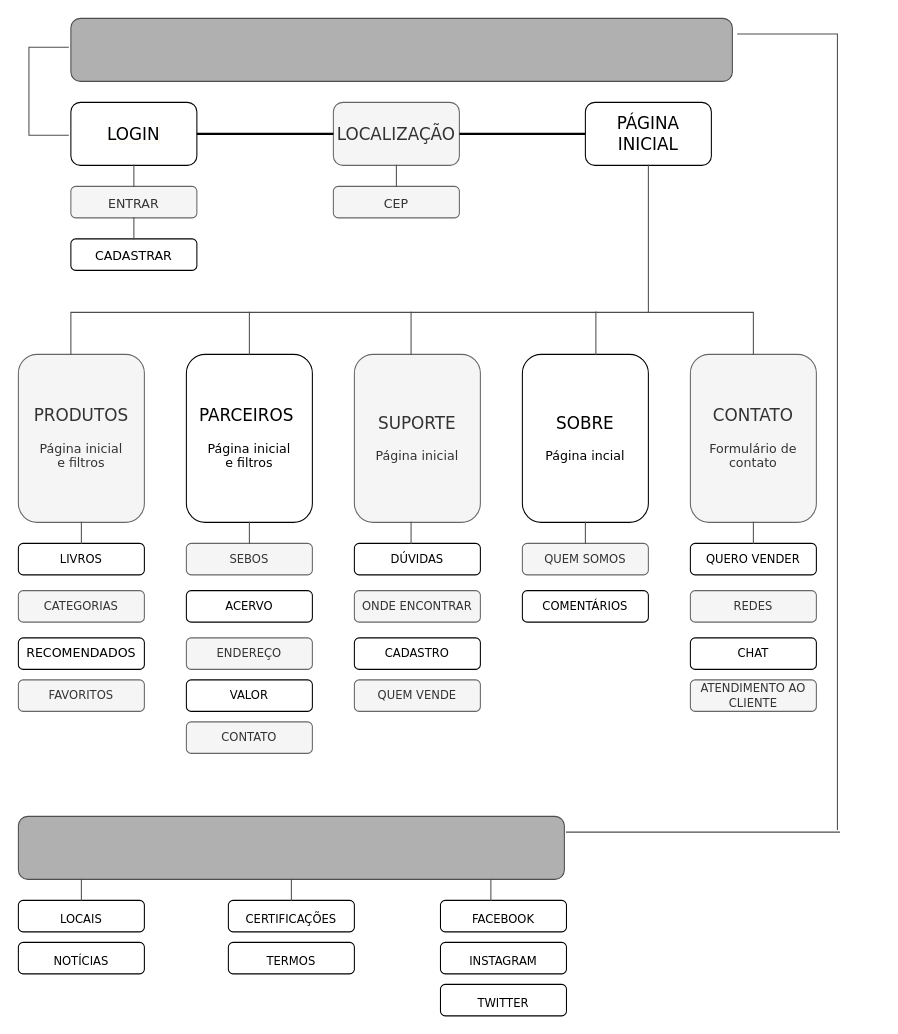
The diagram is 898 pixels wide and 1034 high, and some of its shapes have lost their labels. The centre of each missing label's shape, as x and y in pixels:
HOME PAGE: the point at 401,49
RODAPÉ: the point at 290,847
